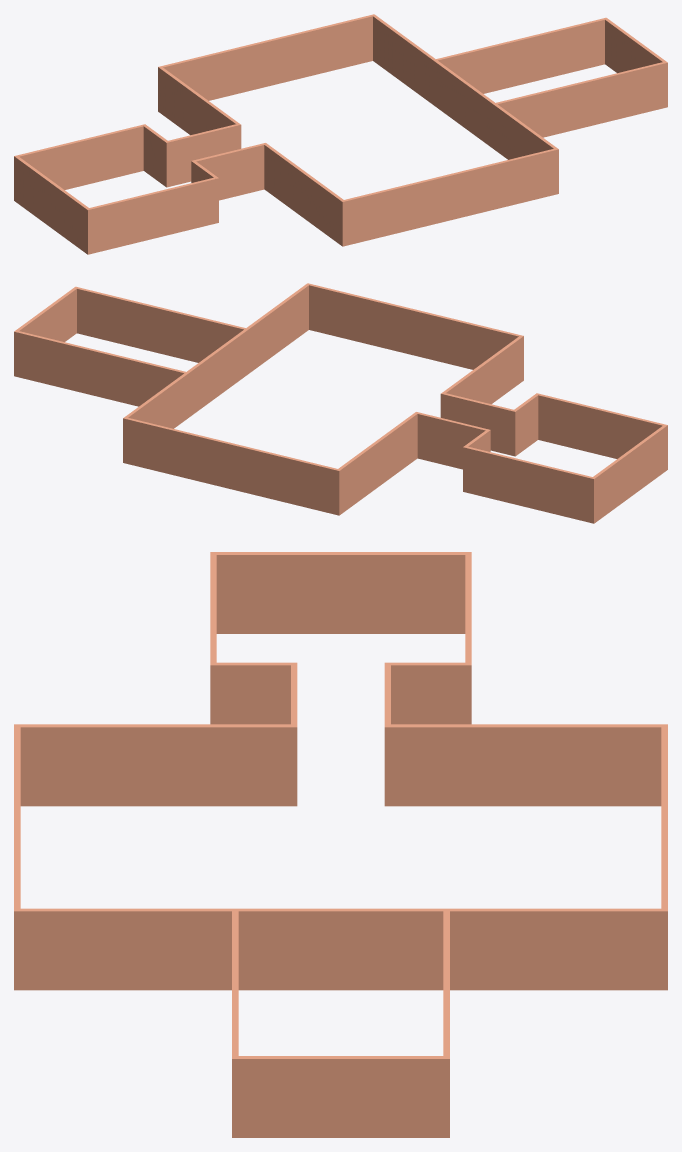
The model's file is housewalls.fbx.
3 renders of one model, top to bottom at view 1: azimuth 30°, elevation 25°; view 2: azimuth 150°, elevation 25°; view 3: azimuth 270°, elevation 25°, orthographic. The views are drawn at different scales.
Parts seen in each view (by area): view 1: housewalls; view 2: housewalls; view 3: housewalls.
Part boxes in pixels (x1=…): housewalls: x1=14, y1=14, x2=667, y2=254; housewalls: x1=14, y1=283, x2=667, y2=523; housewalls: x1=14, y1=552, x2=667, y2=1137.
Size of the model in its own units: 55 by 4 by 30.
